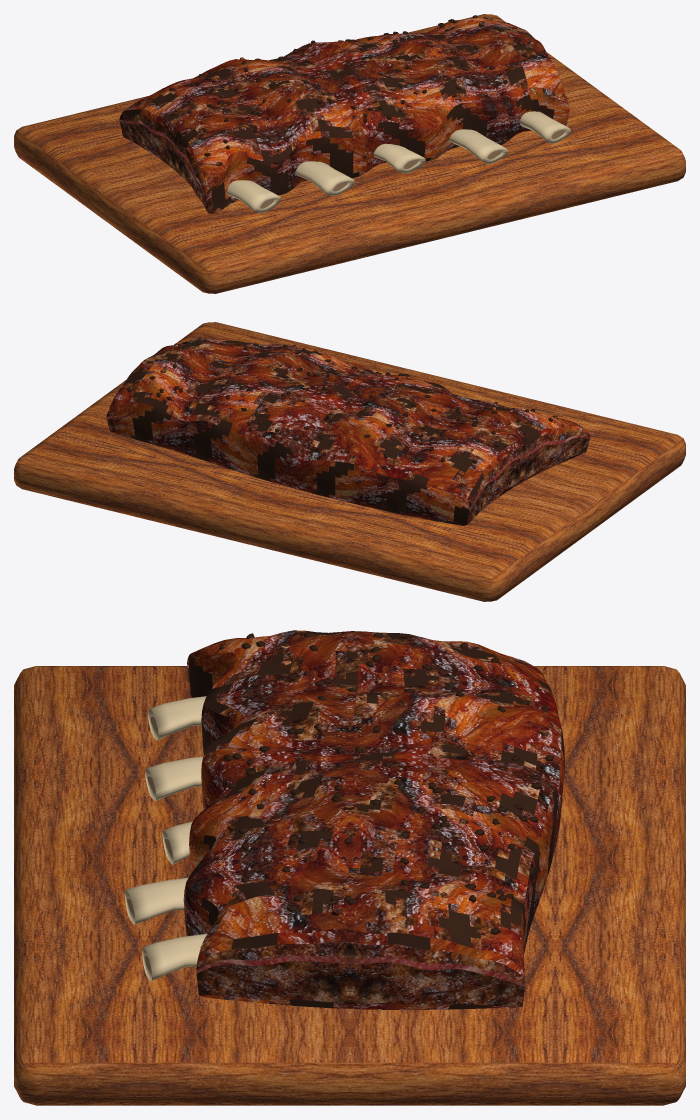
Rendered from costela-defumada.glb.
3 renders of one model, top to bottom at view 1: azimuth 30°, elevation 25°; view 2: azimuth 150°, elevation 25°; view 3: azimuth 270°, elevation 25°, orthographic. The views are drawn at different scales.
Parts seen in each view (by area): view 1: Tabua, SM_Costela_REAL-costela-glaceada, SM_Costela_REAL-carne-selada, SM_Costela_REAL-carbonizado, SM_Costela_REAL-osso; view 2: Tabua, SM_Costela_REAL-costela-glaceada, SM_Costela_REAL-carne-selada, SM_Costela_REAL-carbonizado, SM_Costela_REAL-carne-ao-ponto; view 3: Tabua, SM_Costela_REAL-costela-glaceada, SM_Costela_REAL-carne-selada, SM_Costela_REAL-carbonizado, SM_Costela_REAL-osso, SM_Costela_REAL-carne-ao-ponto.
Part boxes in pixels (left/top/right/bottom): Tabua: left=14, top=14, right=685, bottom=293; SM_Costela_REAL-costela-glaceada: left=121, top=17, right=569, bottom=214; SM_Costela_REAL-carne-selada: left=119, top=18, right=566, bottom=213; SM_Costela_REAL-carbonizado: left=124, top=15, right=562, bottom=210; SM_Costela_REAL-osso: left=227, top=111, right=570, bottom=213; Tabua: left=14, top=322, right=685, bottom=601; SM_Costela_REAL-costela-glaceada: left=107, top=338, right=588, bottom=522; SM_Costela_REAL-carne-selada: left=106, top=341, right=589, bottom=524; SM_Costela_REAL-carbonizado: left=123, top=338, right=580, bottom=525; SM_Costela_REAL-carne-ao-ponto: left=106, top=416, right=589, bottom=510; Tabua: left=14, top=666, right=685, bottom=1105; SM_Costela_REAL-costela-glaceada: left=183, top=630, right=564, bottom=1009; SM_Costela_REAL-carne-selada: left=187, top=630, right=561, bottom=1006; SM_Costela_REAL-carbonizado: left=188, top=630, right=564, bottom=1009; SM_Costela_REAL-osso: left=124, top=696, right=206, bottom=981; SM_Costela_REAL-carne-ao-ponto: left=187, top=664, right=525, bottom=986.
Bounding box in the file's own units: 0.255 × 0.049 × 0.18.
Materials: 7 (4 with a texture image).
